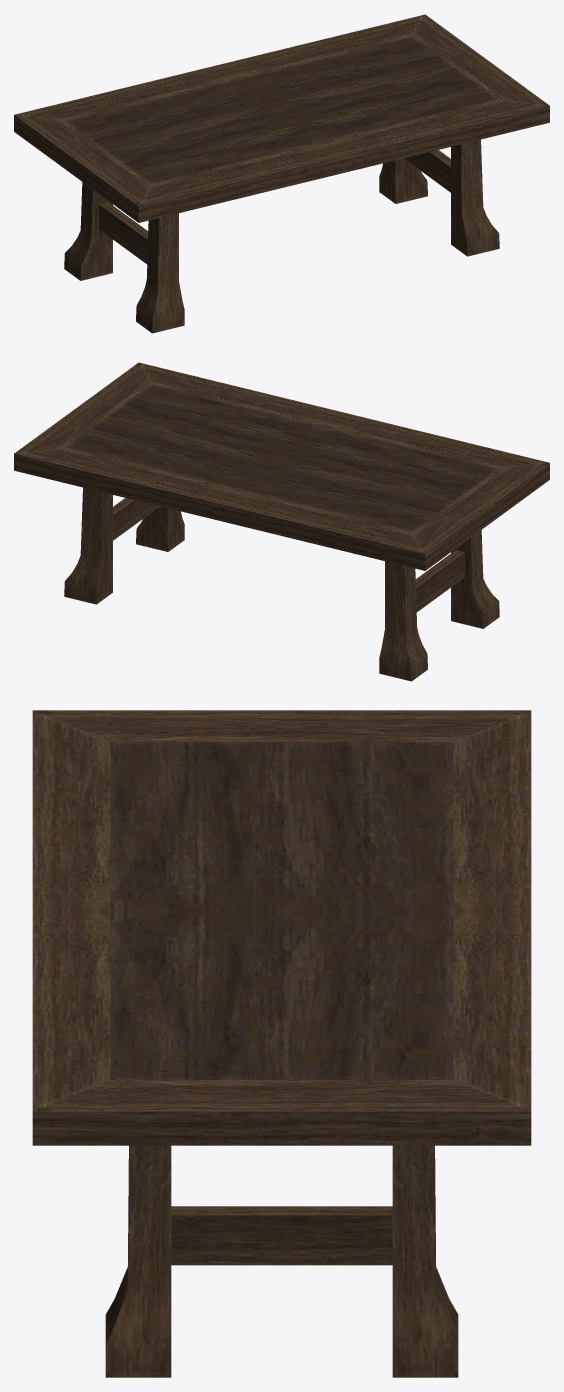
Rendered from eso_gu2_woodfurniture10-transformed.glb.
3 views of the same model, one above another, from view 1: azimuth 30°, elevation 25°; view 2: azimuth 150°, elevation 25°; view 3: azimuth 270°, elevation 25° (orthographic). The views are drawn at different scales.
Parts seen in each view (by area): view 1: default; view 2: default; view 3: default.
Part boxes in pixels (x1=…): default: x1=14, y1=14, x2=549, y2=333; default: x1=14, y1=362, x2=549, y2=681; default: x1=32, y1=710, x2=531, y2=1377.
Bounding box in the file's own units: 2.73 × 0.9428 × 1.43.
1 material, 1 textured.
